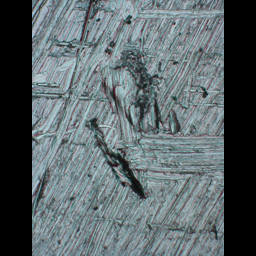d: (82, 17, 185, 203)
